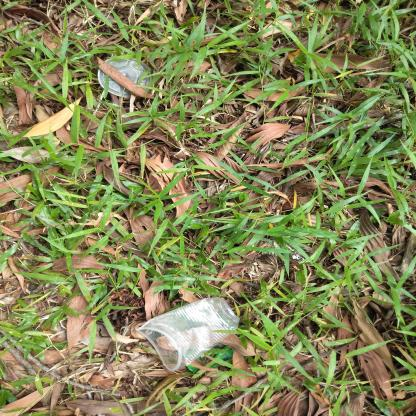Plastic: (135, 298, 240, 371), (187, 350, 234, 373)
